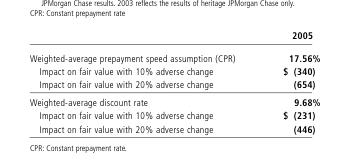table: (28, 29, 319, 133)
table column: (28, 29, 258, 133), (258, 29, 319, 133)
table column header: (28, 29, 319, 46)
table row: (28, 46, 319, 64), (28, 29, 319, 46), (28, 92, 319, 108), (28, 77, 319, 92), (28, 64, 319, 77), (28, 108, 319, 121), (28, 121, 319, 133)
